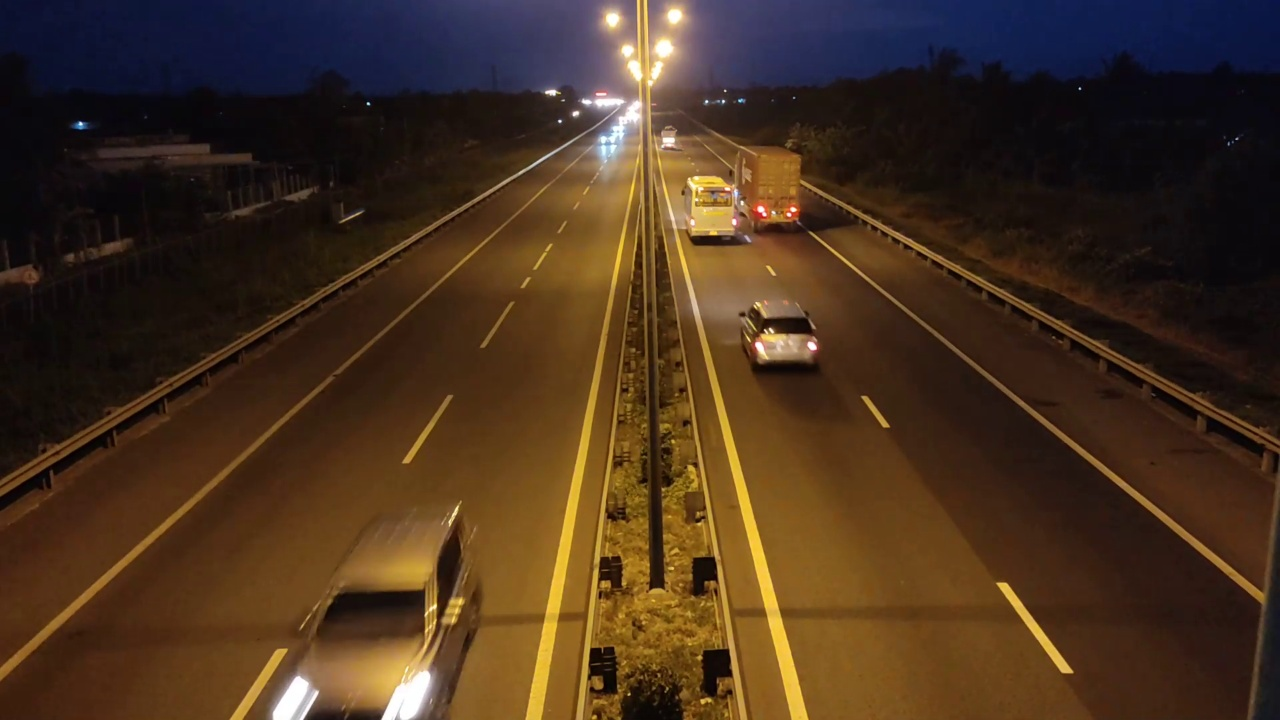bus: (682, 176, 742, 243)
car: (737, 299, 823, 371)
truck: (732, 144, 803, 232)
